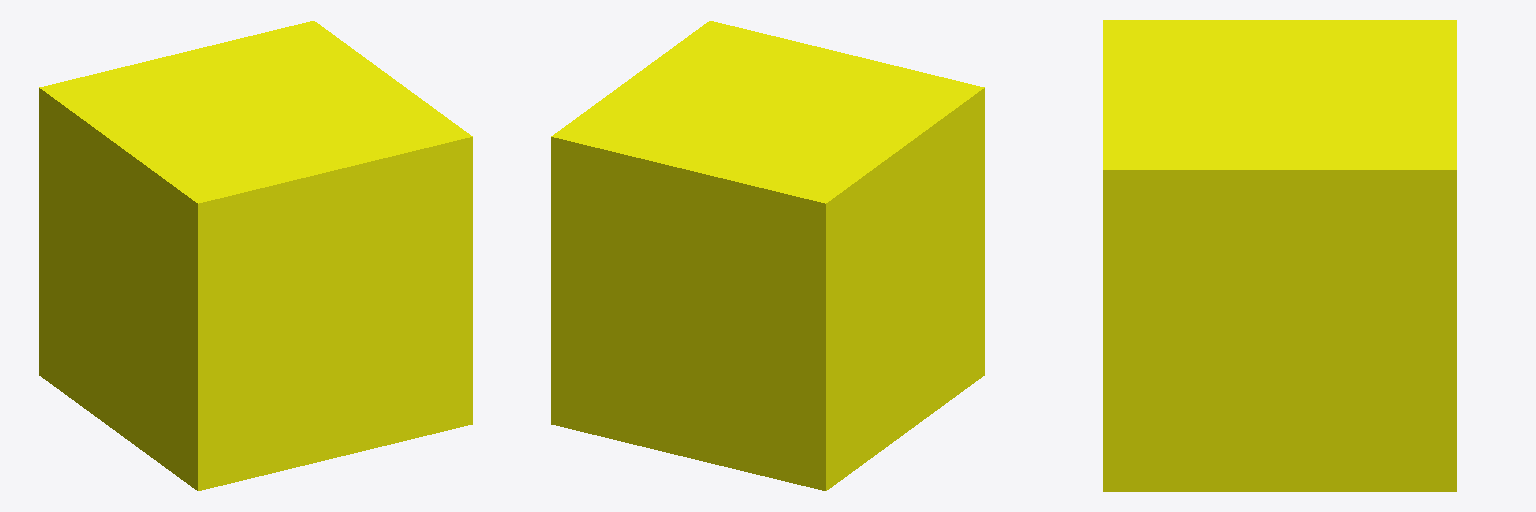
The robot description file, URDF, robot "simple_table":
<?xml version="1.0"?>
<robot name="simple_table">

	<material name="color">
		<color rgba="1.0 1.0 .08 1"/>
	</material>

	<link name="base_link">
		<visual>
			<geometry>
				<box size="0.05 0.05 0.05"/>
			</geometry>
			<material name="color"/>
		</visual>
		<collision>
			<geometry>
				<box size="0.05 0.05 0.05"/>
			</geometry>
		</collision>
	</link>
</robot>

--- Render facts (derived) ---
The picture shows the robot from 3 angles, left to right: view 1: azimuth 30°, elevation 25°; view 2: azimuth 150°, elevation 25°; view 3: azimuth 270°, elevation 25°; orthographic projection.
Model simple_table with 1 links and 0 joints (none), rooted at base_link, posed all joints at 0.
Links seen in each view (by area): view 1: base_link; view 2: base_link; view 3: base_link.
Link boxes in pixels (x1,y1,x2,y2): base_link: [39, 21, 472, 490]; base_link: [551, 21, 984, 490]; base_link: [1103, 20, 1456, 491].
Bounding box of the posed robot: 0.05 × 0.05 × 0.05 m (x, y, z).
Geometry: primitives only (box / cylinder / sphere), no mesh files.